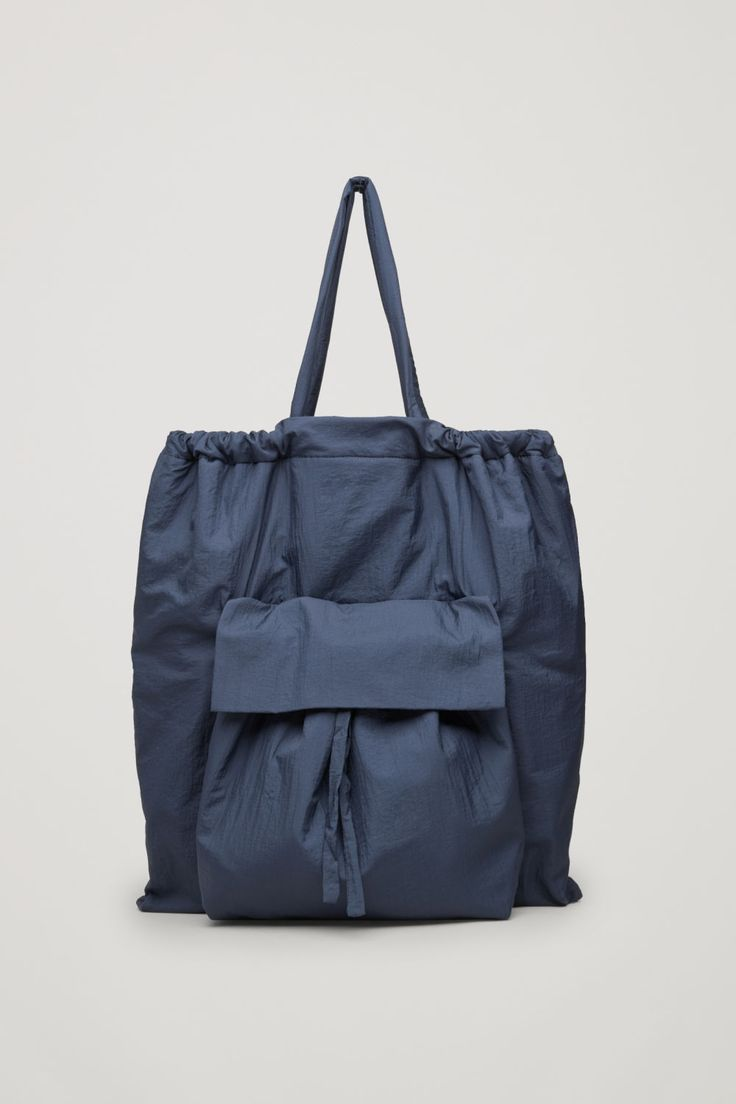nylon: (131, 177, 587, 924)
